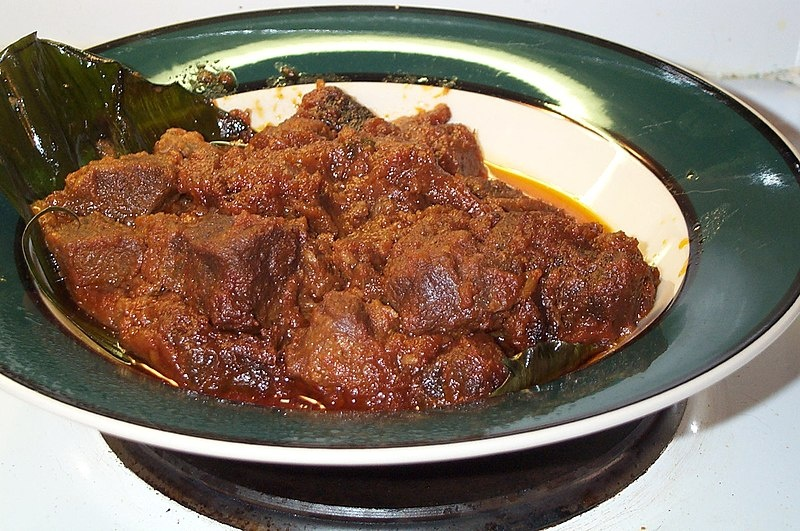rendang: (29, 84, 661, 411)
